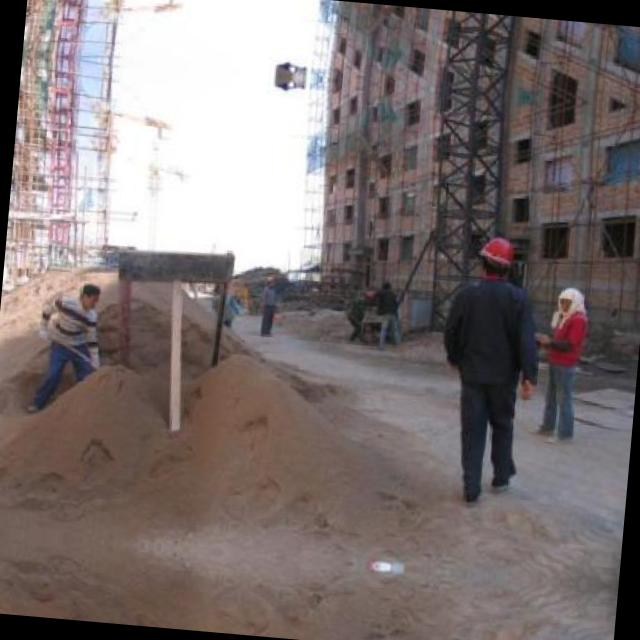helmet: (475, 232, 516, 278)
